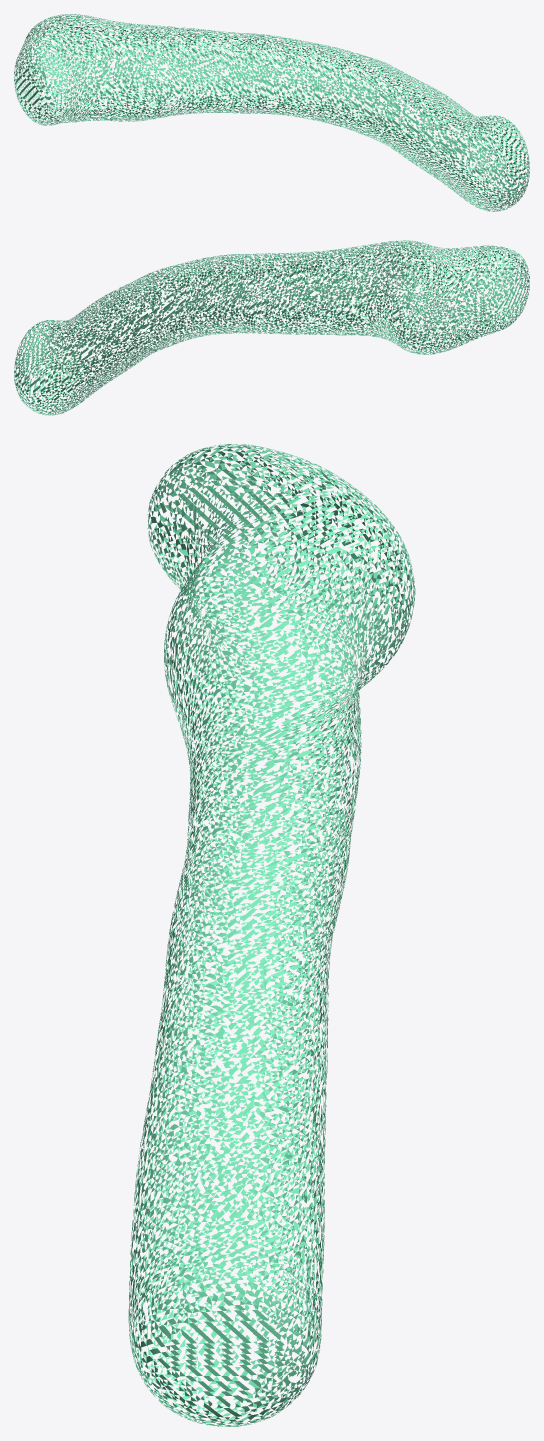
File: healthy.glb
3 renders of one model, top to bottom at view 1: azimuth 30°, elevation 25°; view 2: azimuth 150°, elevation 25°; view 3: azimuth 270°, elevation 25°, orthographic. The views are drawn at different scales.
Size of the model in its own units: 139 by 74.51 by 35.33.
